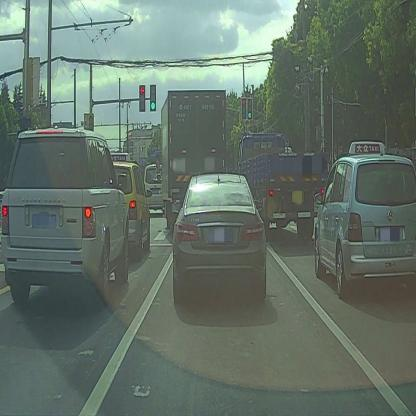Green Light: (149, 82, 157, 113), (246, 96, 252, 121)
Red Light: (139, 82, 146, 113)
